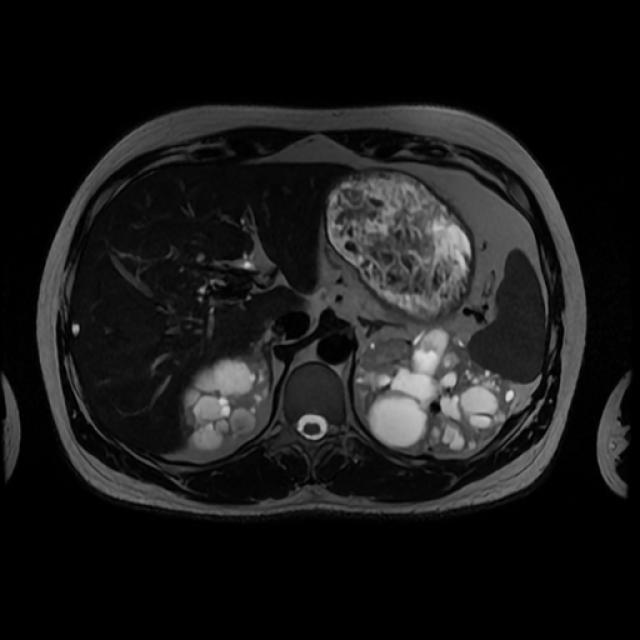sag: (185, 350, 272, 452)
sol: (355, 327, 517, 456)
